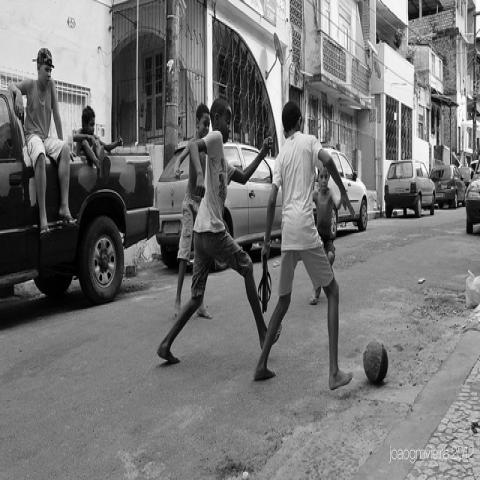car: (154, 146, 283, 256), (322, 149, 367, 237), (383, 158, 439, 220), (431, 168, 466, 208), (465, 157, 479, 236), (458, 166, 474, 188)
truck: (0, 83, 160, 304)
